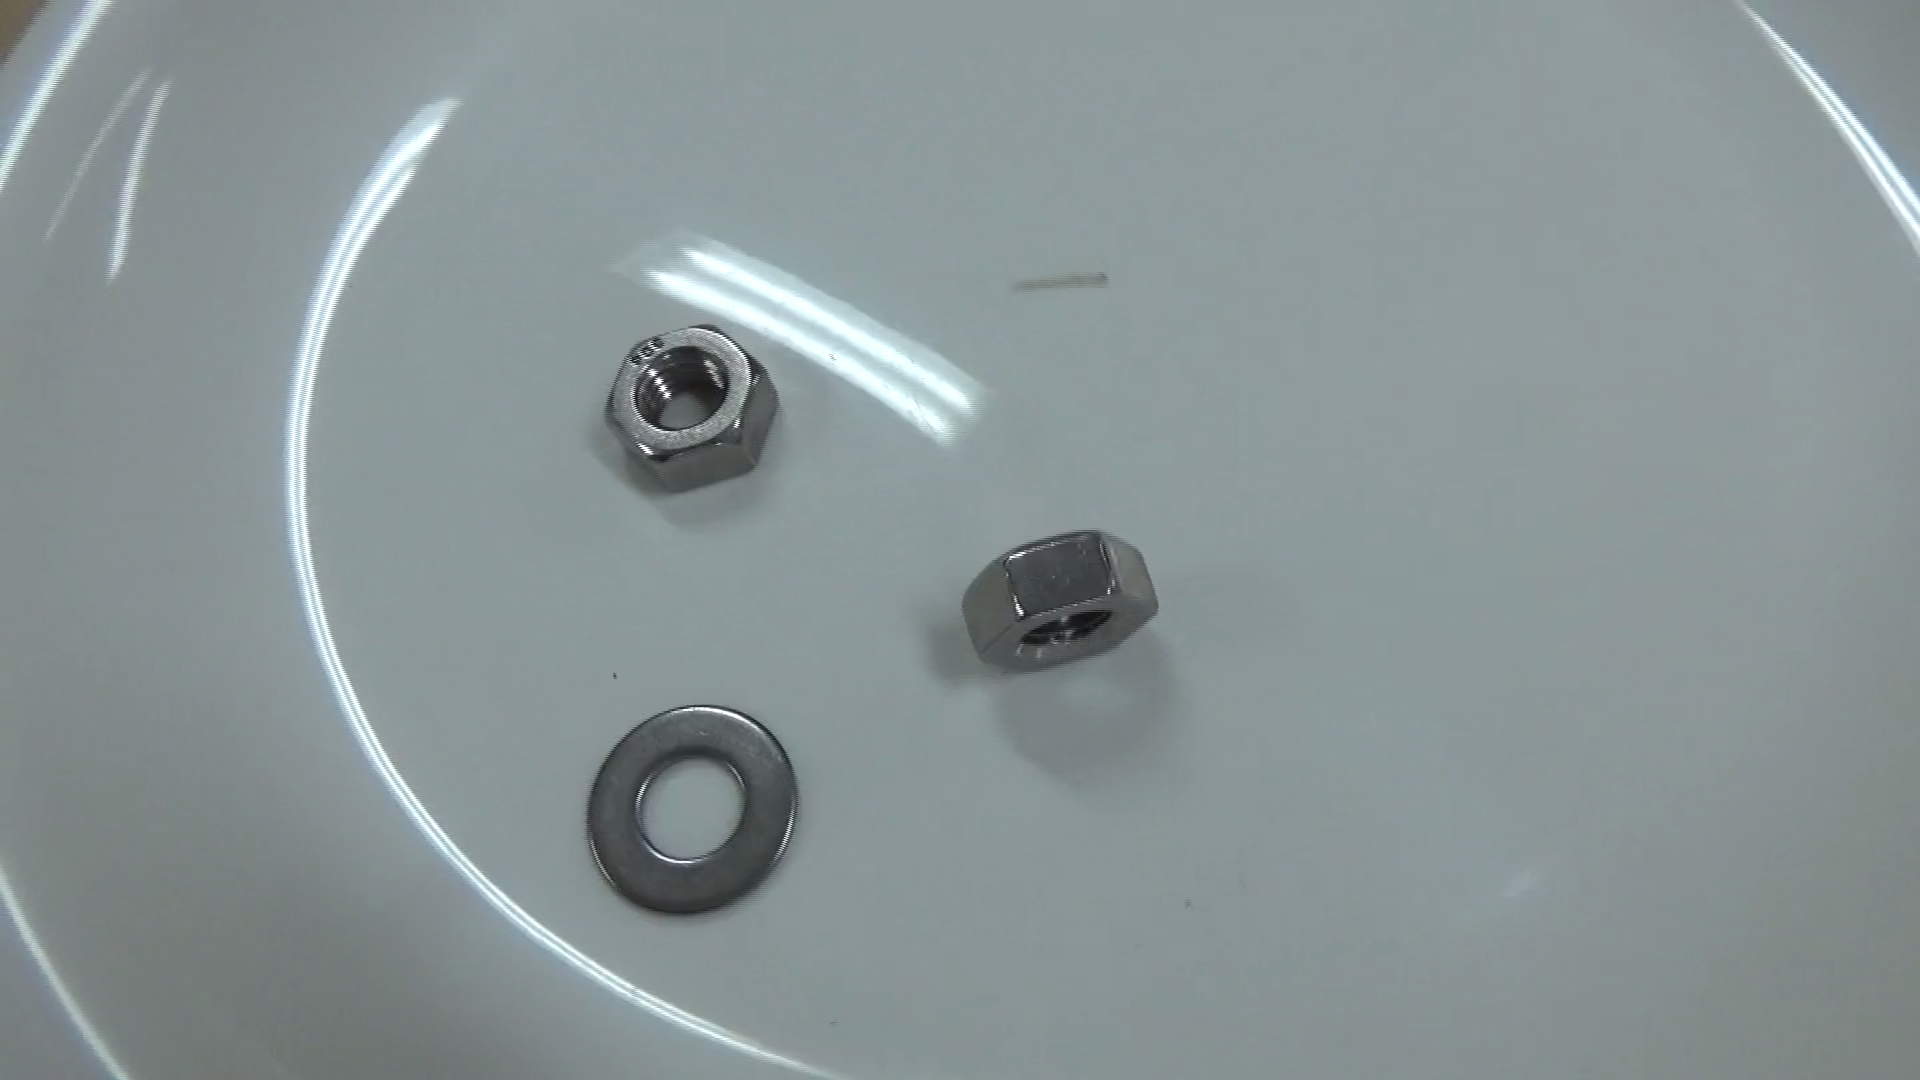nut: (593, 289, 789, 506), (948, 525, 1166, 680)
washer: (575, 680, 807, 932)
